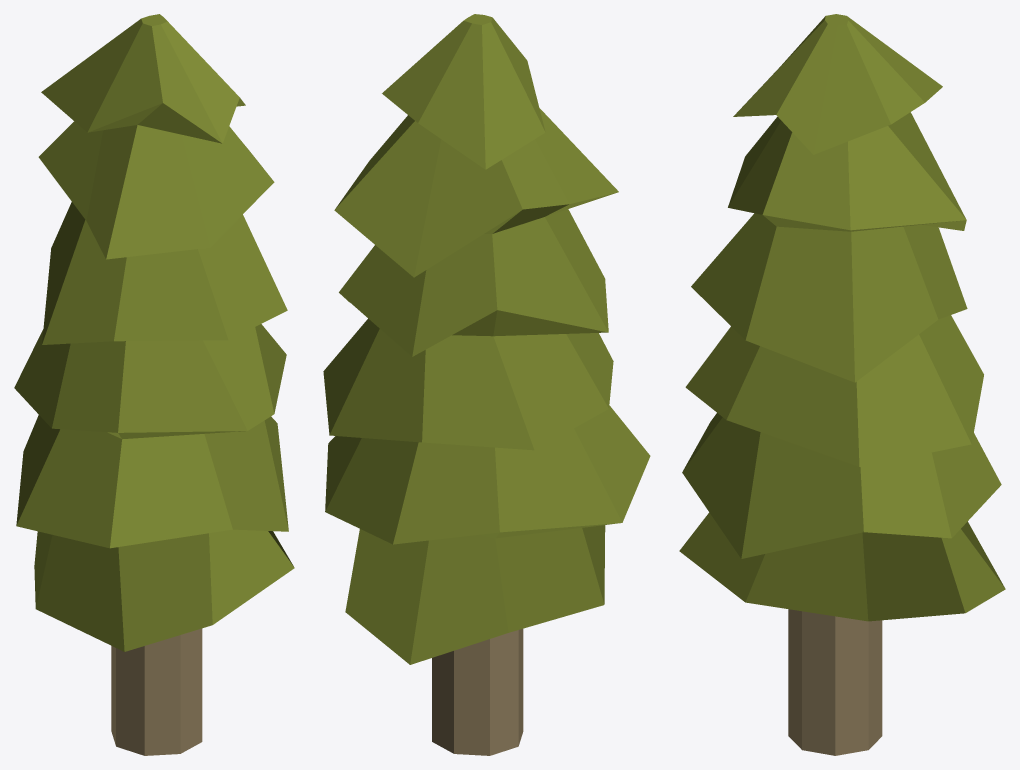
File: Pinetree stylized 5.fbx
The picture shows the model from 3 angles, left to right: view 1: azimuth 30°, elevation 25°; view 2: azimuth 150°, elevation 25°; view 3: azimuth 270°, elevation 25°; orthographic projection.
Parts seen in each view (by area): view 1: pinetree_cylinder; view 2: pinetree_cylinder; view 3: pinetree_cylinder.
Part boxes in pixels (x1,y1,x2,y2): pinetree_cylinder: (14, 14, 294, 755); pinetree_cylinder: (323, 14, 650, 755); pinetree_cylinder: (679, 14, 1005, 755).
Size of the model in its own units: 2.05 by 4.94 by 2.04.
